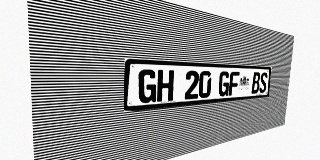0: (198, 71, 212, 98)
2: (184, 70, 199, 100)
B: (251, 72, 261, 94)
F: (228, 72, 239, 96)
G: (138, 69, 157, 104), (218, 71, 230, 97)
H: (157, 70, 174, 102)
S: (259, 72, 268, 93)
